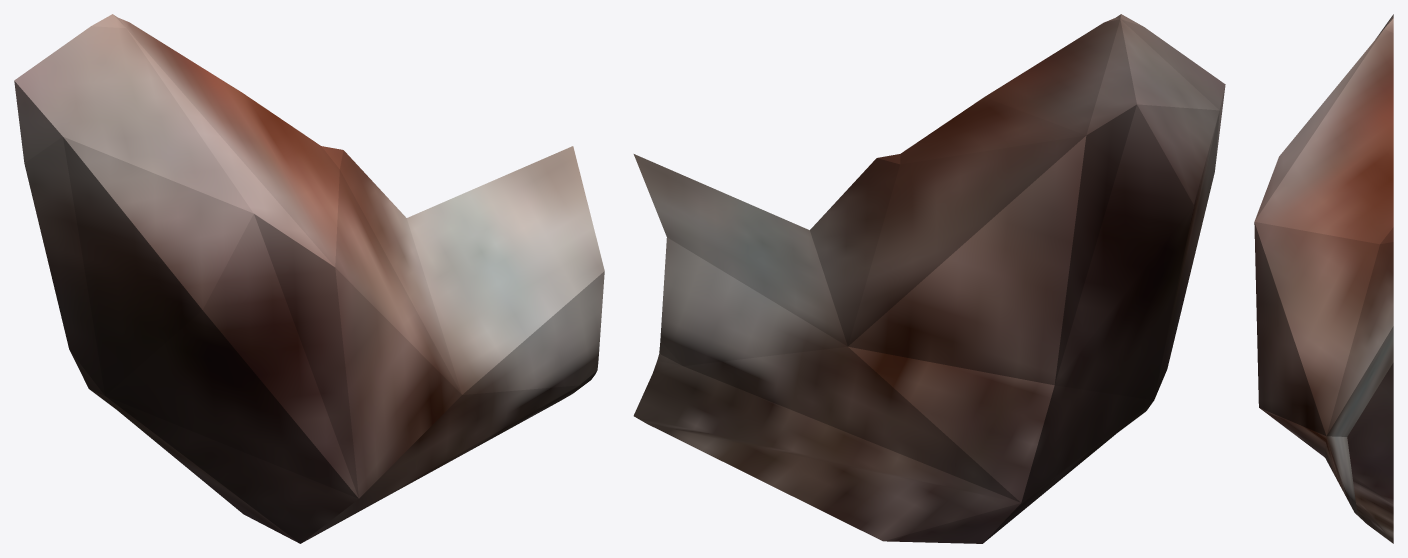
The picture shows the model from 3 angles, left to right: view 1: azimuth 30°, elevation 25°; view 2: azimuth 150°, elevation 25°; view 3: azimuth 270°, elevation 25°; orthographic projection. The views are drawn at different scales.
Size of the model in its own units: 0.1002 by 0.0947 by 0.0294.
1 material, 1 textured.
